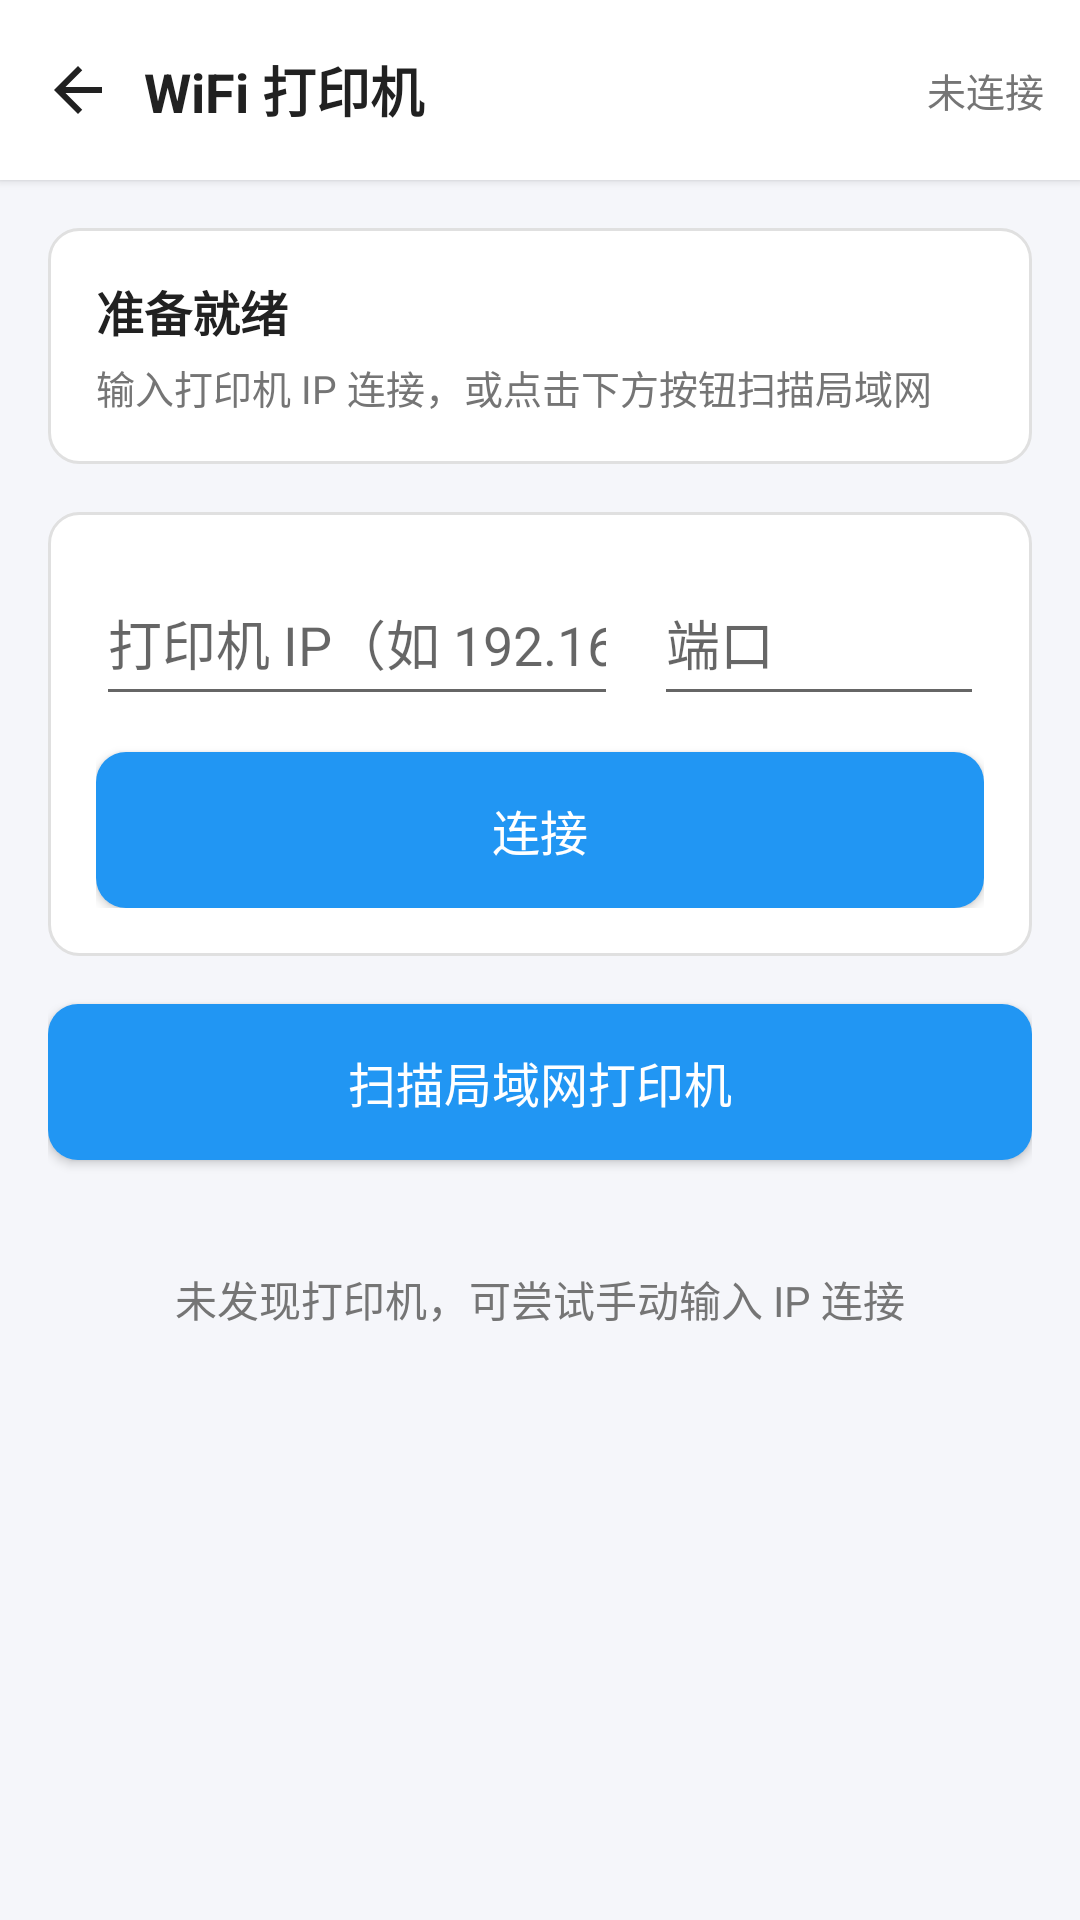

Named icons in this screenshot (1080x1920) and their centers, (x=x, y=y):
返回: (x=78, y=90)
